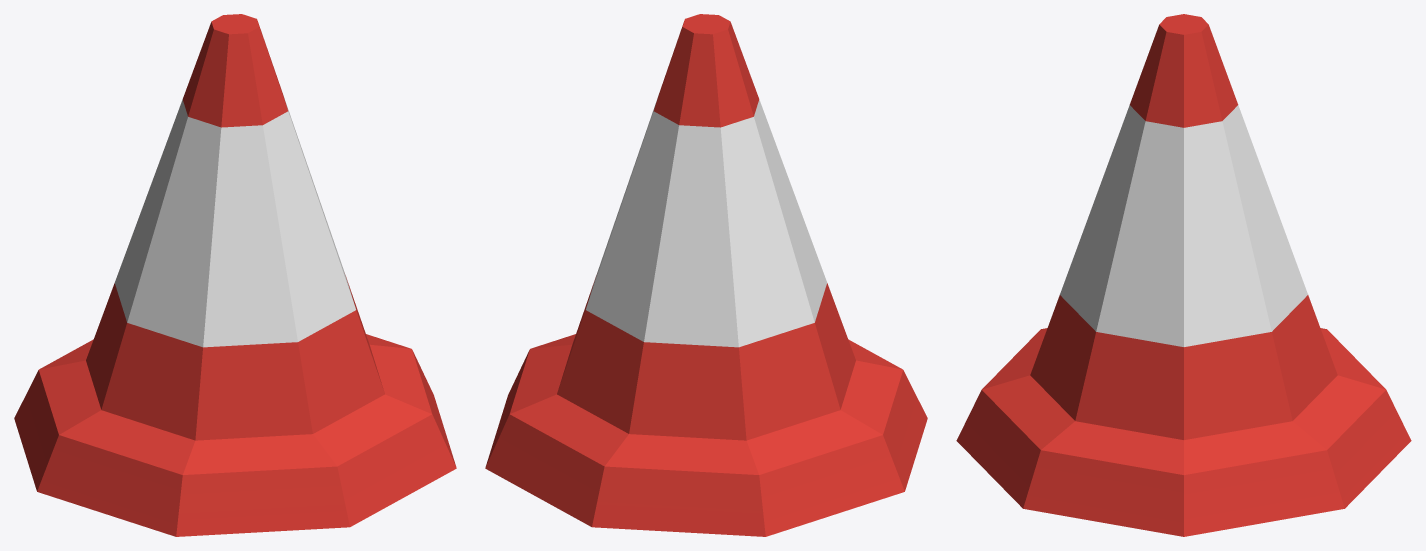
Rendered from wujian04.FBX.
3 renders of one model, left to right at view 1: azimuth 30°, elevation 25°; view 2: azimuth 150°, elevation 25°; view 3: azimuth 270°, elevation 25°, orthographic.
Visible parts, largest first — view 1: wujian04; view 2: wujian04; view 3: wujian04.
Part boxes in pixels (x1,y1,x2,y2): wujian04: [14, 14, 456, 536]; wujian04: [485, 14, 927, 536]; wujian04: [956, 14, 1411, 536].
Size of the model in its own units: 153 by 154 by 153.
